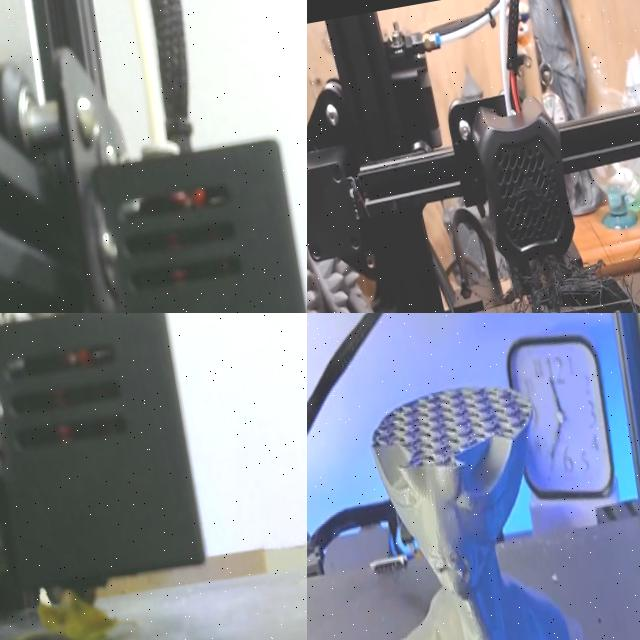spaghetti: (464, 256, 640, 313), (38, 589, 114, 640)
